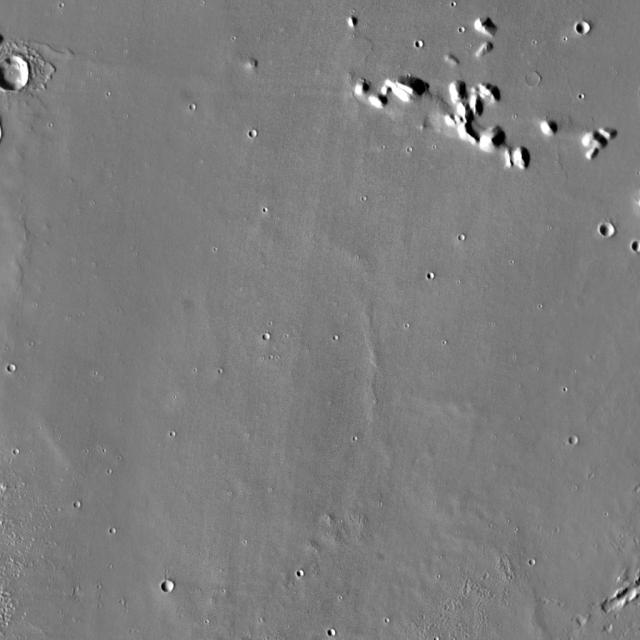crater: (0, 58, 31, 91), (623, 586, 638, 600), (529, 72, 544, 85), (599, 224, 612, 237), (601, 600, 614, 612), (578, 23, 588, 33), (160, 582, 170, 592), (576, 616, 586, 626), (570, 436, 579, 446), (415, 40, 424, 48), (633, 240, 640, 250), (10, 366, 18, 374), (262, 333, 270, 341), (428, 272, 436, 280), (75, 502, 82, 510), (250, 129, 258, 136), (188, 105, 196, 112), (457, 235, 466, 241), (297, 571, 304, 578), (328, 630, 335, 636), (528, 558, 535, 564), (110, 529, 116, 535), (12, 448, 18, 454)
